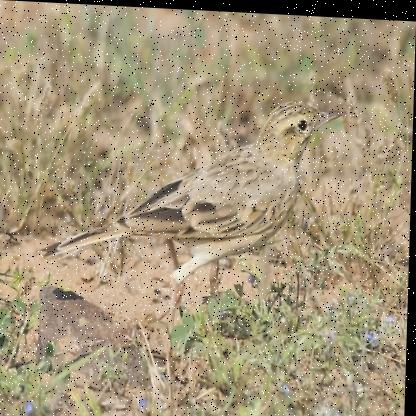Burung: (44, 86, 345, 357)
